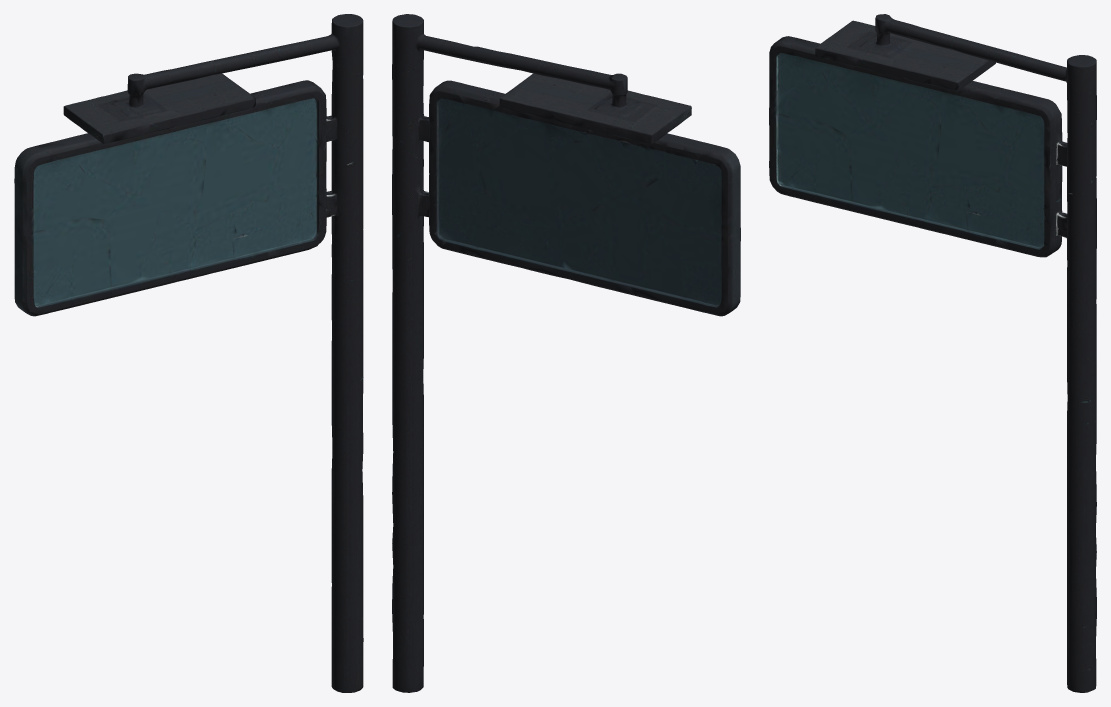
File: traffic_sign_p.glb
3 views of the same model, side by side, from view 1: azimuth 30°, elevation 25°; view 2: azimuth 150°, elevation 25°; view 3: azimuth 330°, elevation 25° (orthographic). The views are drawn at different scales.
Size of the model in its own units: 1.02 by 1.9 by 0.208.
Materials: 1 (1 with a texture image).
